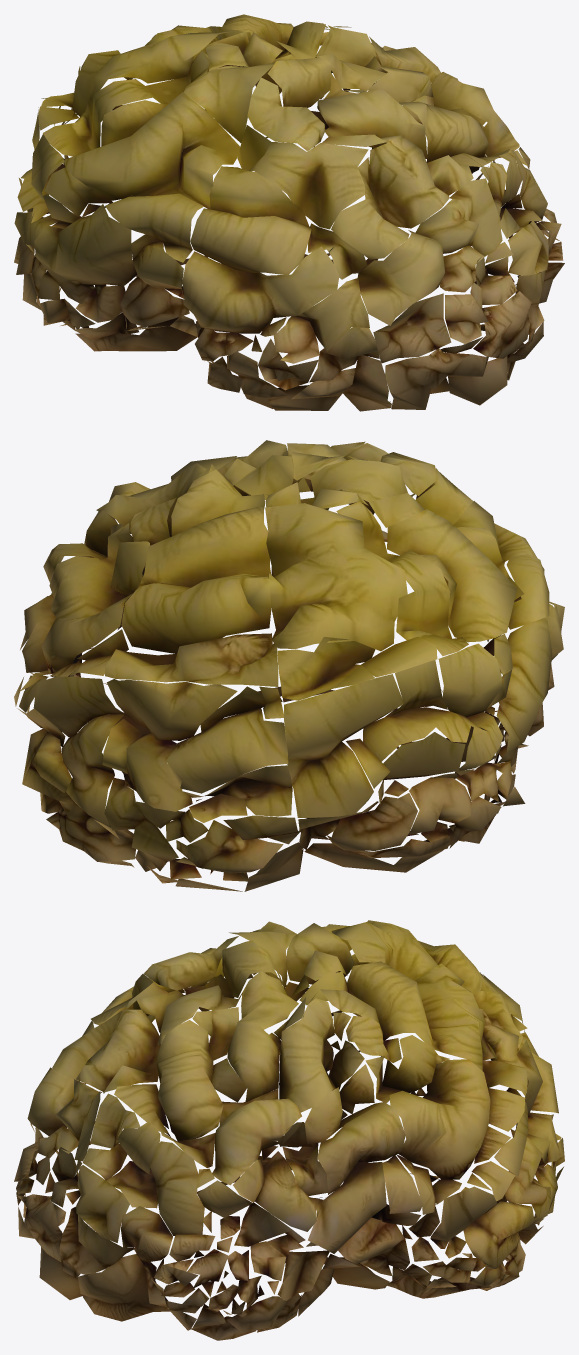
File: coral_brain.glb
3 renders of one model, top to bottom at view 1: azimuth 30°, elevation 25°; view 2: azimuth 150°, elevation 25°; view 3: azimuth 270°, elevation 25°, orthographic. The views are drawn at different scales.
Visible parts, largest first — view 1: tripo_node_f34a92c0-7a76-4c3c-96f6-f051e0d5c7e6; view 2: tripo_node_f34a92c0-7a76-4c3c-96f6-f051e0d5c7e6; view 3: tripo_node_f34a92c0-7a76-4c3c-96f6-f051e0d5c7e6.
Boxes of the visible parts, x1=… form: tripo_node_f34a92c0-7a76-4c3c-96f6-f051e0d5c7e6: x1=14, y1=14, x2=564, y2=411; tripo_node_f34a92c0-7a76-4c3c-96f6-f051e0d5c7e6: x1=14, y1=440, x2=564, y2=891; tripo_node_f34a92c0-7a76-4c3c-96f6-f051e0d5c7e6: x1=14, y1=920, x2=564, y2=1340.
Bounding box in the file's own units: 0.951 × 0.6107 × 1.
1 material, 1 textured.
